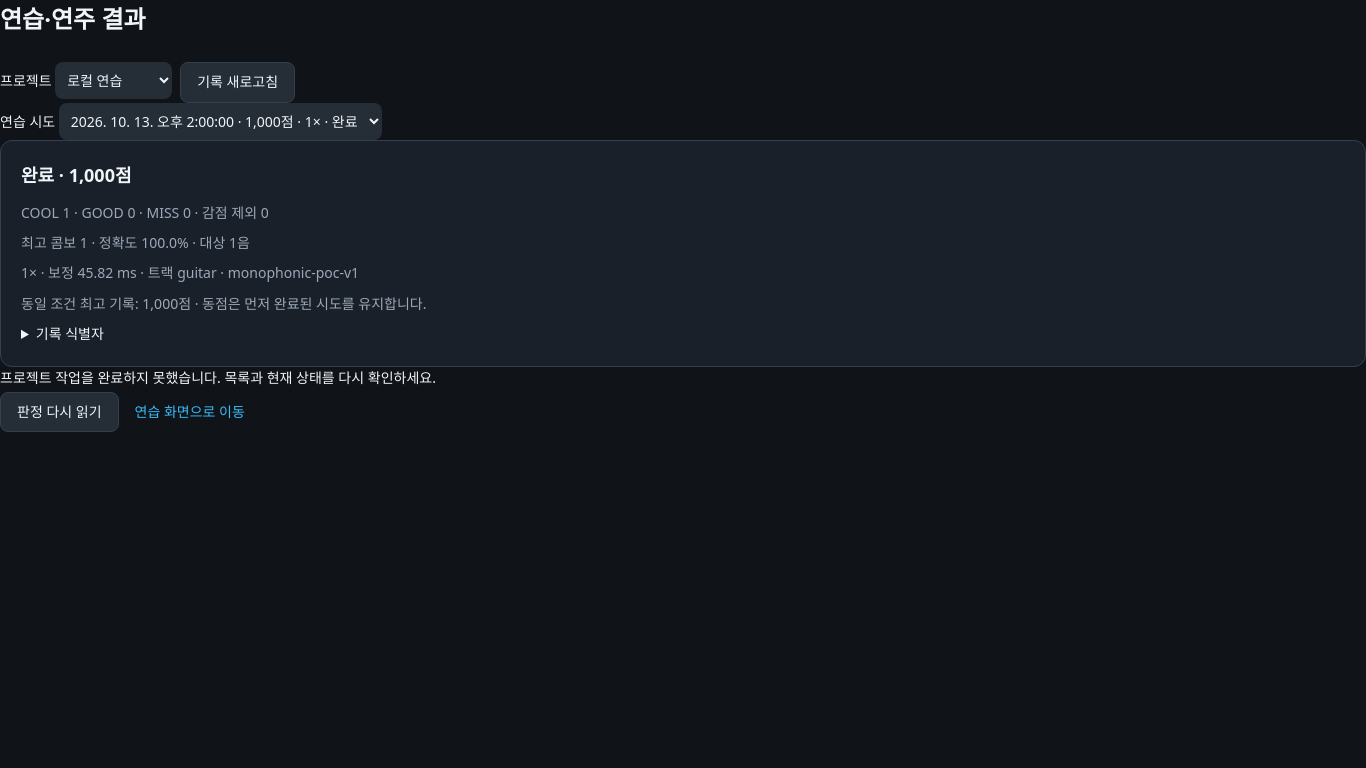
it: 판정 조회 실패 후 목록을 새로 읽지 않고 재시도한다
Expected: the message "프로젝트 작업을 완료하지 못했습니다. 목록과 현재 상태를 다시 확인하세요." is shown, [0, 368, 436, 386]
Click the button "판정 다시 읽기" at (59, 412), box [0, 392, 119, 432]
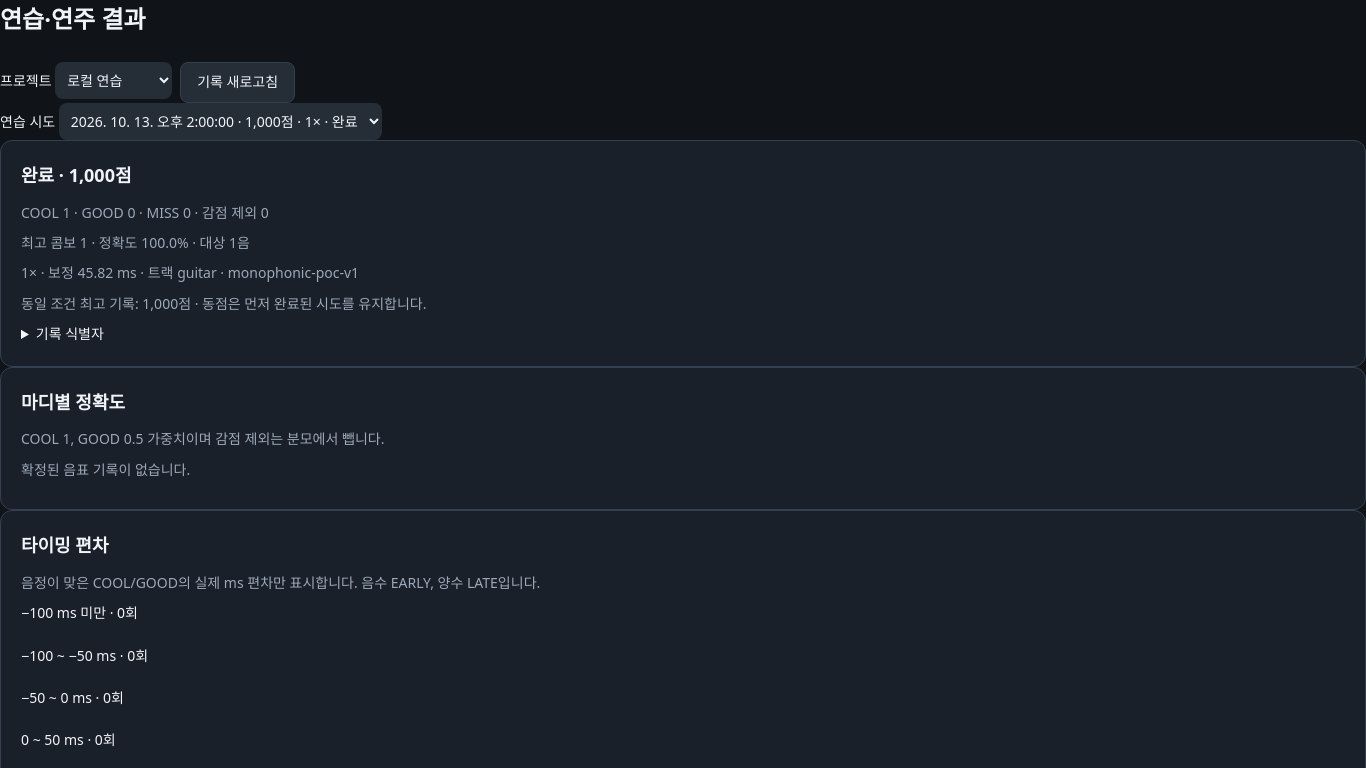
Now the text "확정된 음표 기록이 없습니다." is shown, box [21, 460, 190, 479]
Now the message "프로젝트 작업을 완료하지 못했습니다. 목록과 현재 상태를 다시 확인하세요." is gone
